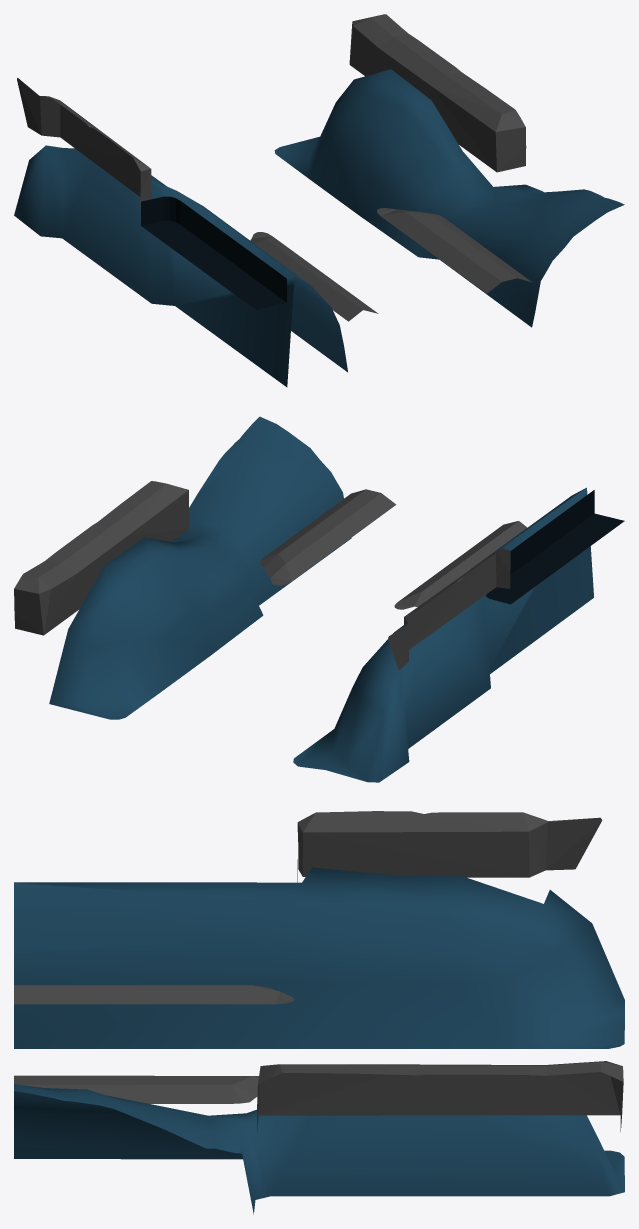
Rendered from newshb-43.glb.
3 renders of one model, top to bottom at view 1: azimuth 30°, elevation 25°; view 2: azimuth 150°, elevation 25°; view 3: azimuth 270°, elevation 25°, orthographic. The views are drawn at different scales.
Parts seen in each view (by area): view 1: newshb-43; view 2: newshb-43; view 3: newshb-43.
Boxes of the visible parts, left/top/right/bottom form: newshb-43: left=14, top=14, right=624, bottom=387; newshb-43: left=14, top=416, right=624, bottom=782; newshb-43: left=14, top=811, right=624, bottom=1214.
Bounding box in the file's own units: 2 × 0.7751 × 2.33.
